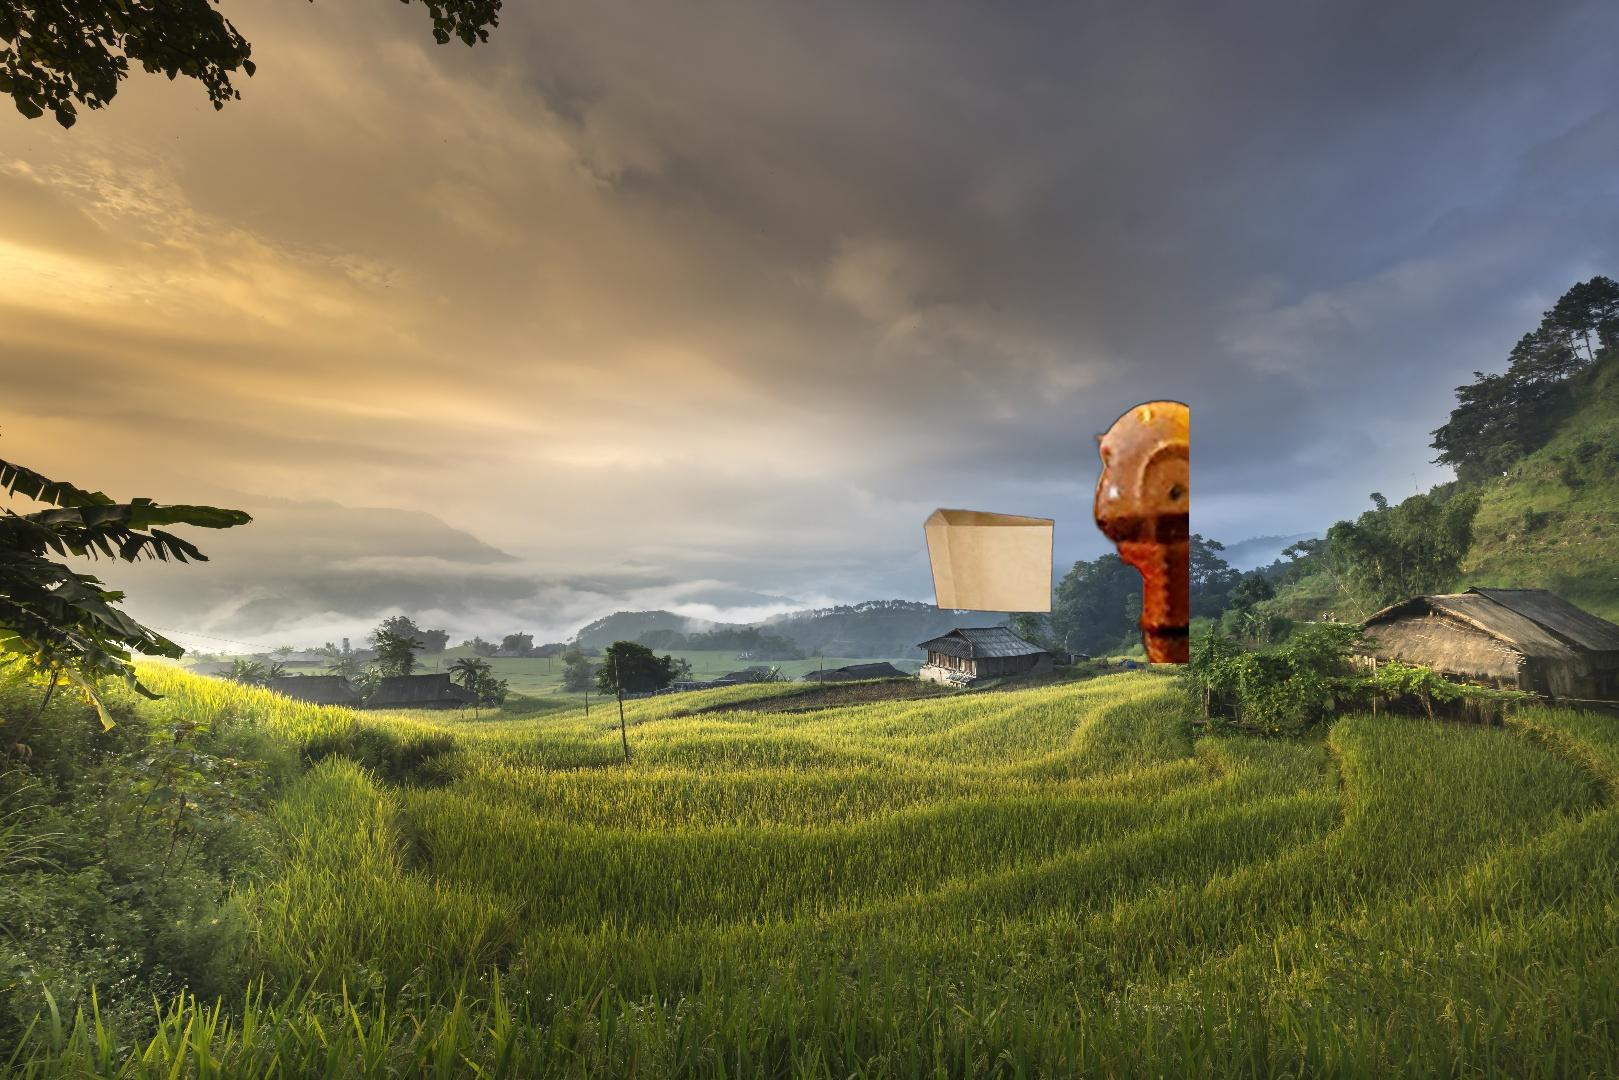paper-bag: (922, 397, 1189, 663)
